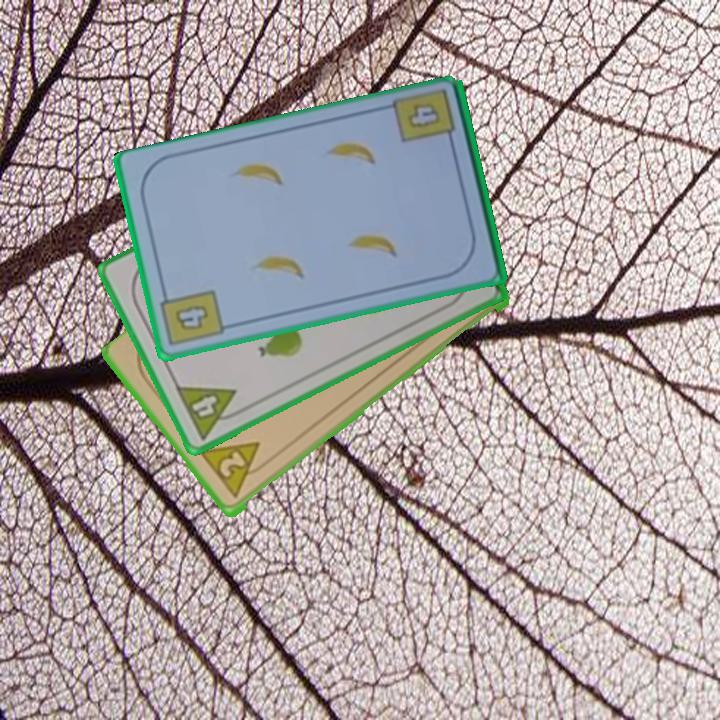2p: (197, 438, 273, 502)
4b: (157, 286, 227, 350), (403, 100, 443, 132)
4p: (172, 382, 248, 443)
